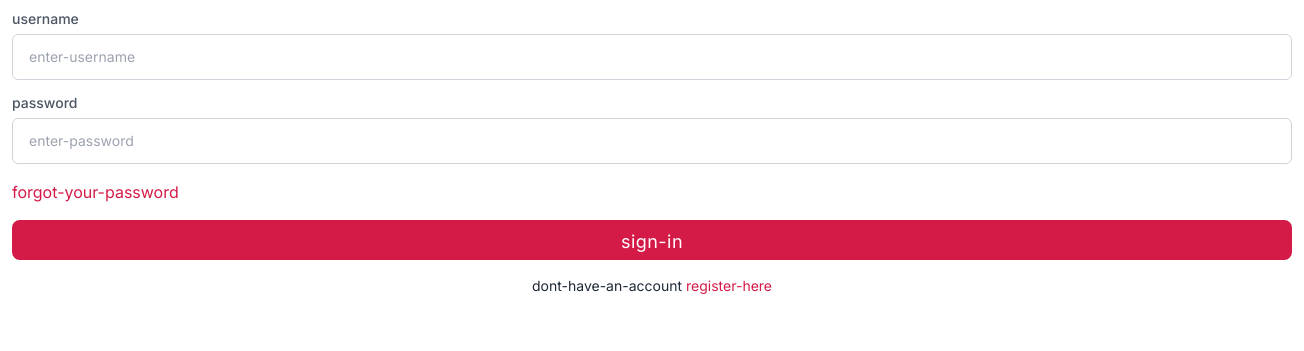
Test: LoginForm Component › should display validation errors when fields are empty
What coordinates should you click on to do the following:
click the button "sign-in"
I would click on:
 (652, 240)
Its box is [12,220,1292,260].
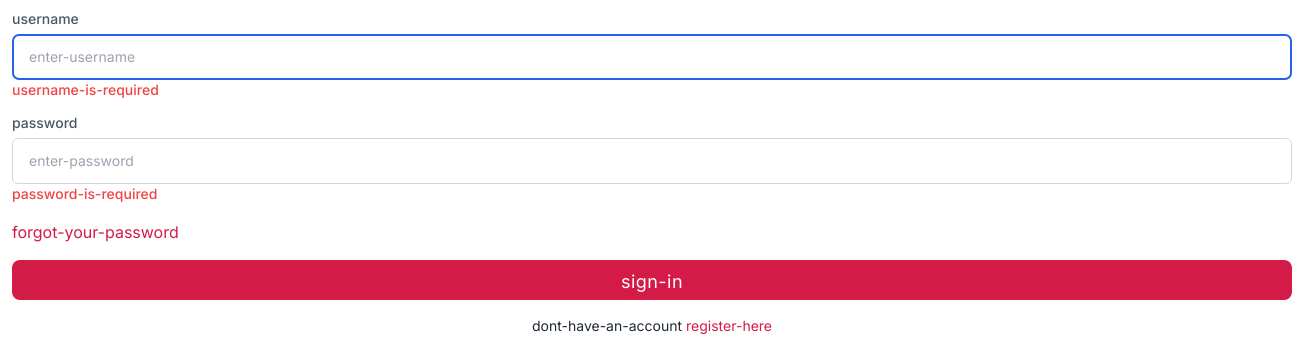
Result: the text "username-is-required" is shown at [12,81,159,98]
Result: the text "password-is-required" is shown at [12,185,158,202]
